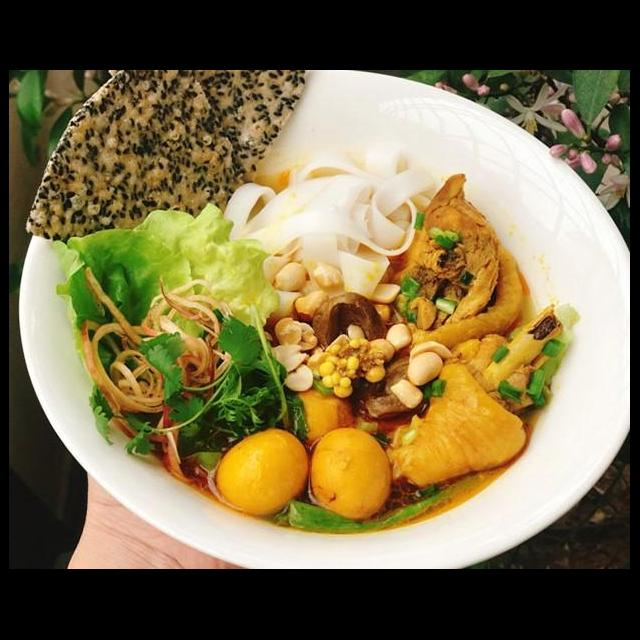banh da: (22, 72, 310, 250)
mi: (217, 140, 438, 326)
thit ga: (386, 170, 530, 360), (382, 352, 528, 492), (438, 300, 566, 422)
trung: (214, 424, 312, 520), (308, 426, 396, 520), (280, 384, 358, 450)
